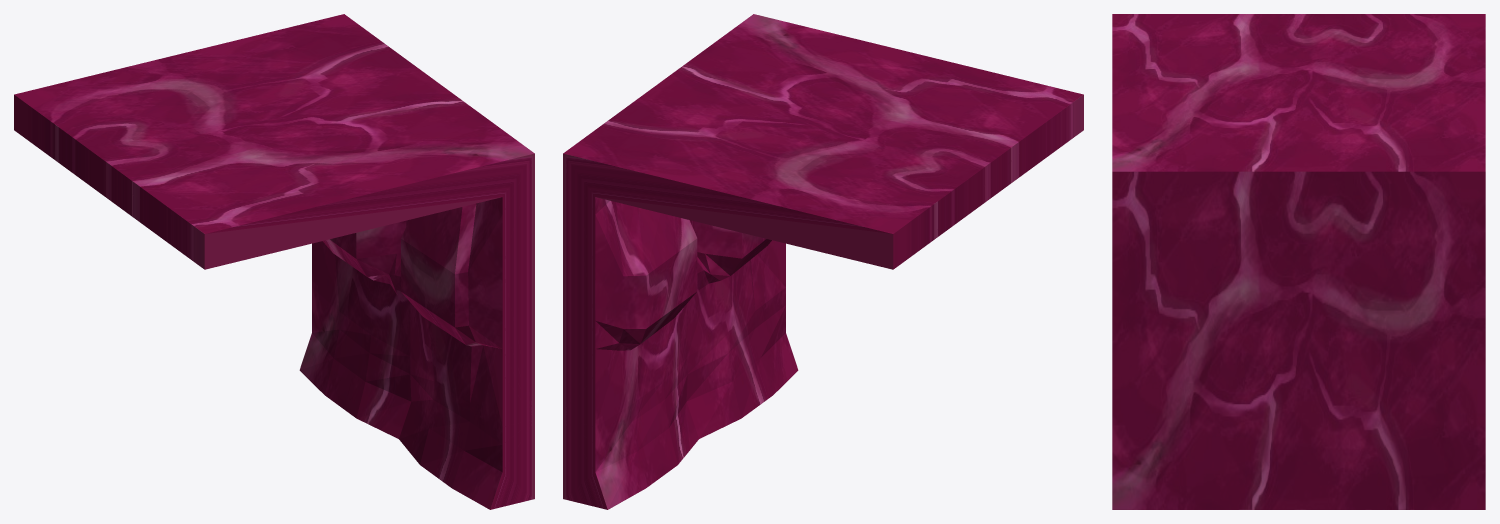
Rendered from EspacioPornoParedInteriorAltoNS.gltf.
3 views of the same model, side by side, from view 1: azimuth 30°, elevation 25°; view 2: azimuth 150°, elevation 25°; view 3: azimuth 270°, elevation 25° (orthographic). The views are drawn at different scales.
Parts seen in each view (by area): view 1: Cubo.40; view 2: Cubo.40; view 3: Cubo.40.
Boxes of the visible parts, <box> form: Cubo.40: <box>14,14,534,509</box>; Cubo.40: <box>563,14,1083,509</box>; Cubo.40: <box>1112,14,1485,509</box>.
Bounding box in the file's own units: 2 × 2 × 2.
1 material, 1 textured.
